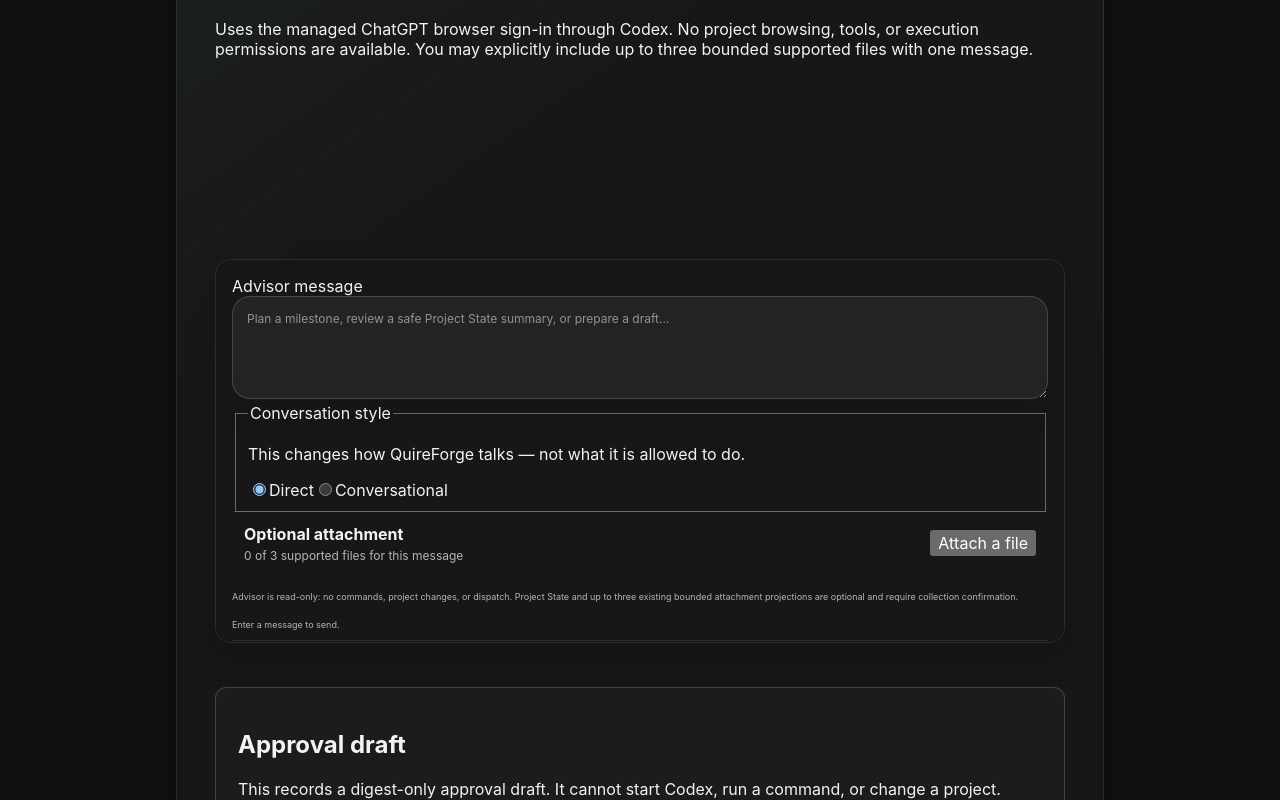
Test: AdvisorWorkspace › keeps the capability notice separate when a sendable message is entered
(page scrolled)
Replace the text in the text box labelled "Advisor message" with "Review the milestone boundary.". click: (640, 347)
box: [232,296,1048,399]
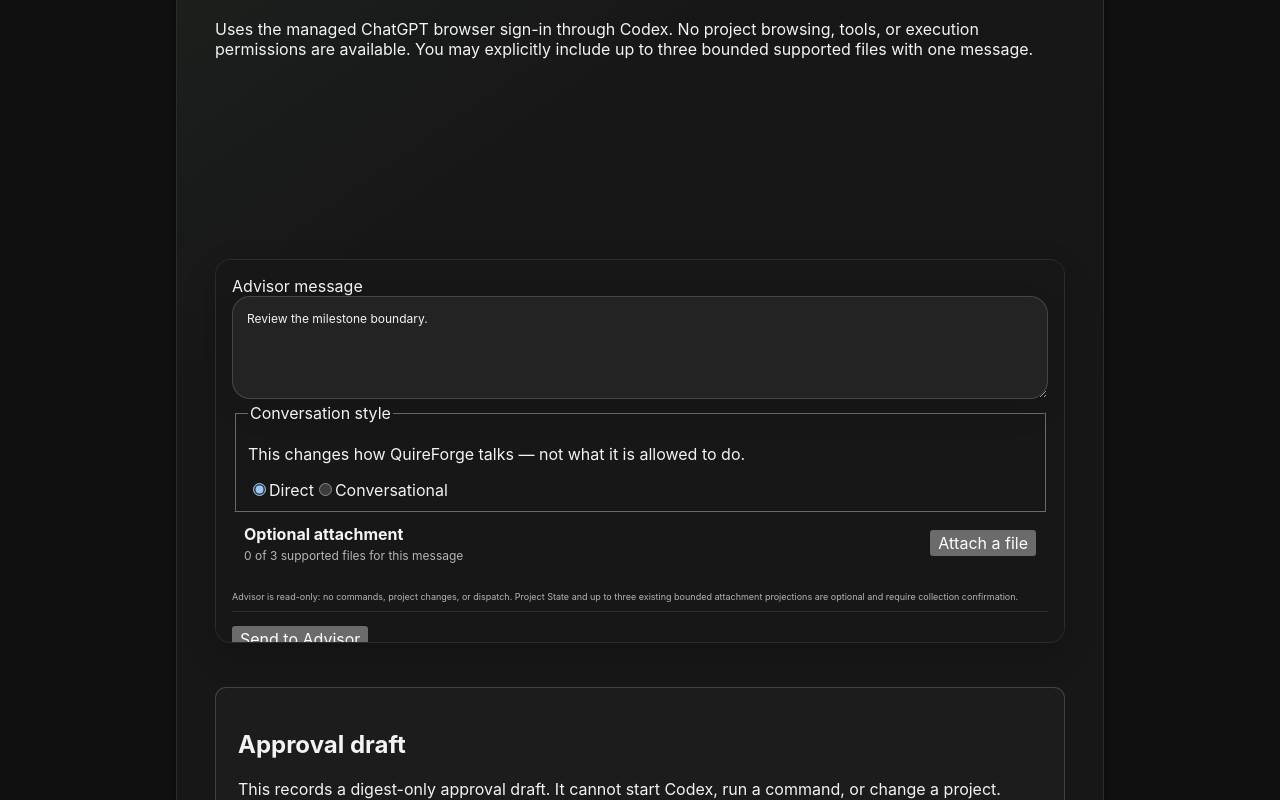
Expected: the text "Project State and up to three existing bounded attachment projections are optional and require collection confirmation" is shown, [232,590,1018,602]
Now the button "Send to Advisor" is enabled, box [232,626,368,643]
Now the text "Enter a message to send." is gone
